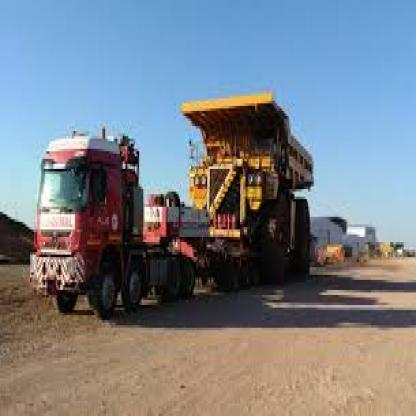dump_truck: (18, 113, 229, 312), (181, 81, 332, 285)
